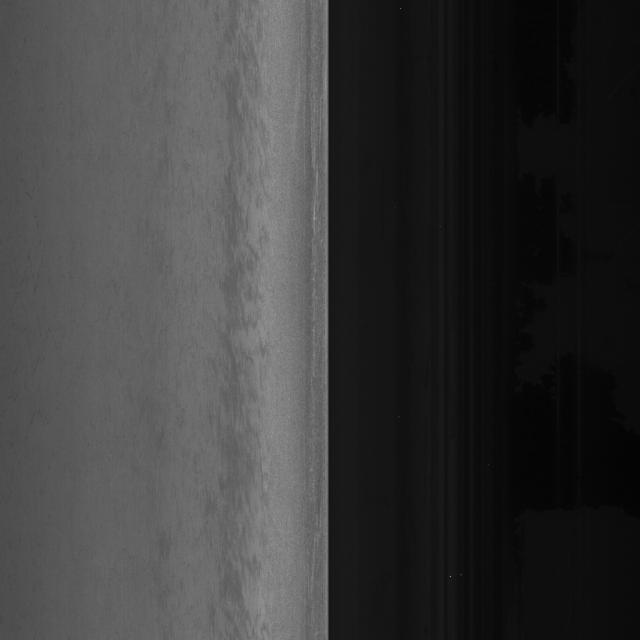inclusion: (211, 228, 273, 392)
